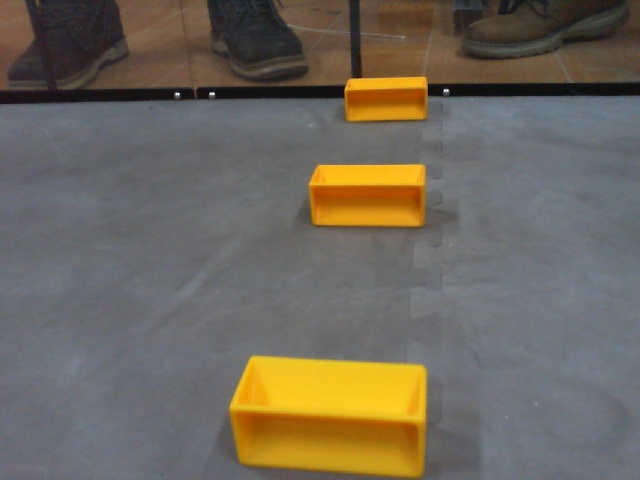YellowSample: (225, 348, 432, 480), (301, 158, 434, 232), (341, 73, 432, 128)
